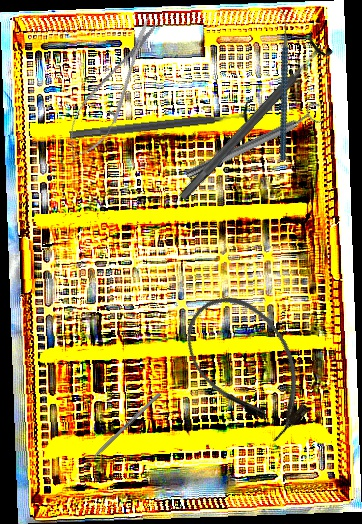Cannula: (168, 277, 330, 455)
Chopper: (228, 7, 334, 161)
Fixation Ring: (169, 30, 335, 209), (181, 100, 328, 185), (67, 97, 256, 150)
Micro Scissor: (54, 7, 172, 171)
Pusher: (76, 391, 162, 475)
